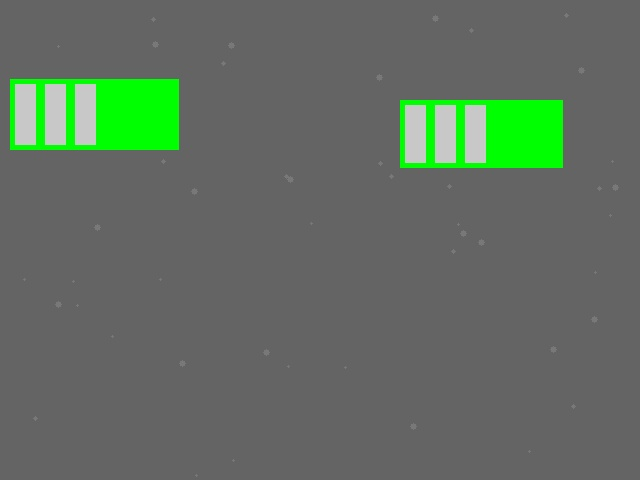bus: (10, 79, 178, 149), (400, 100, 562, 167)
